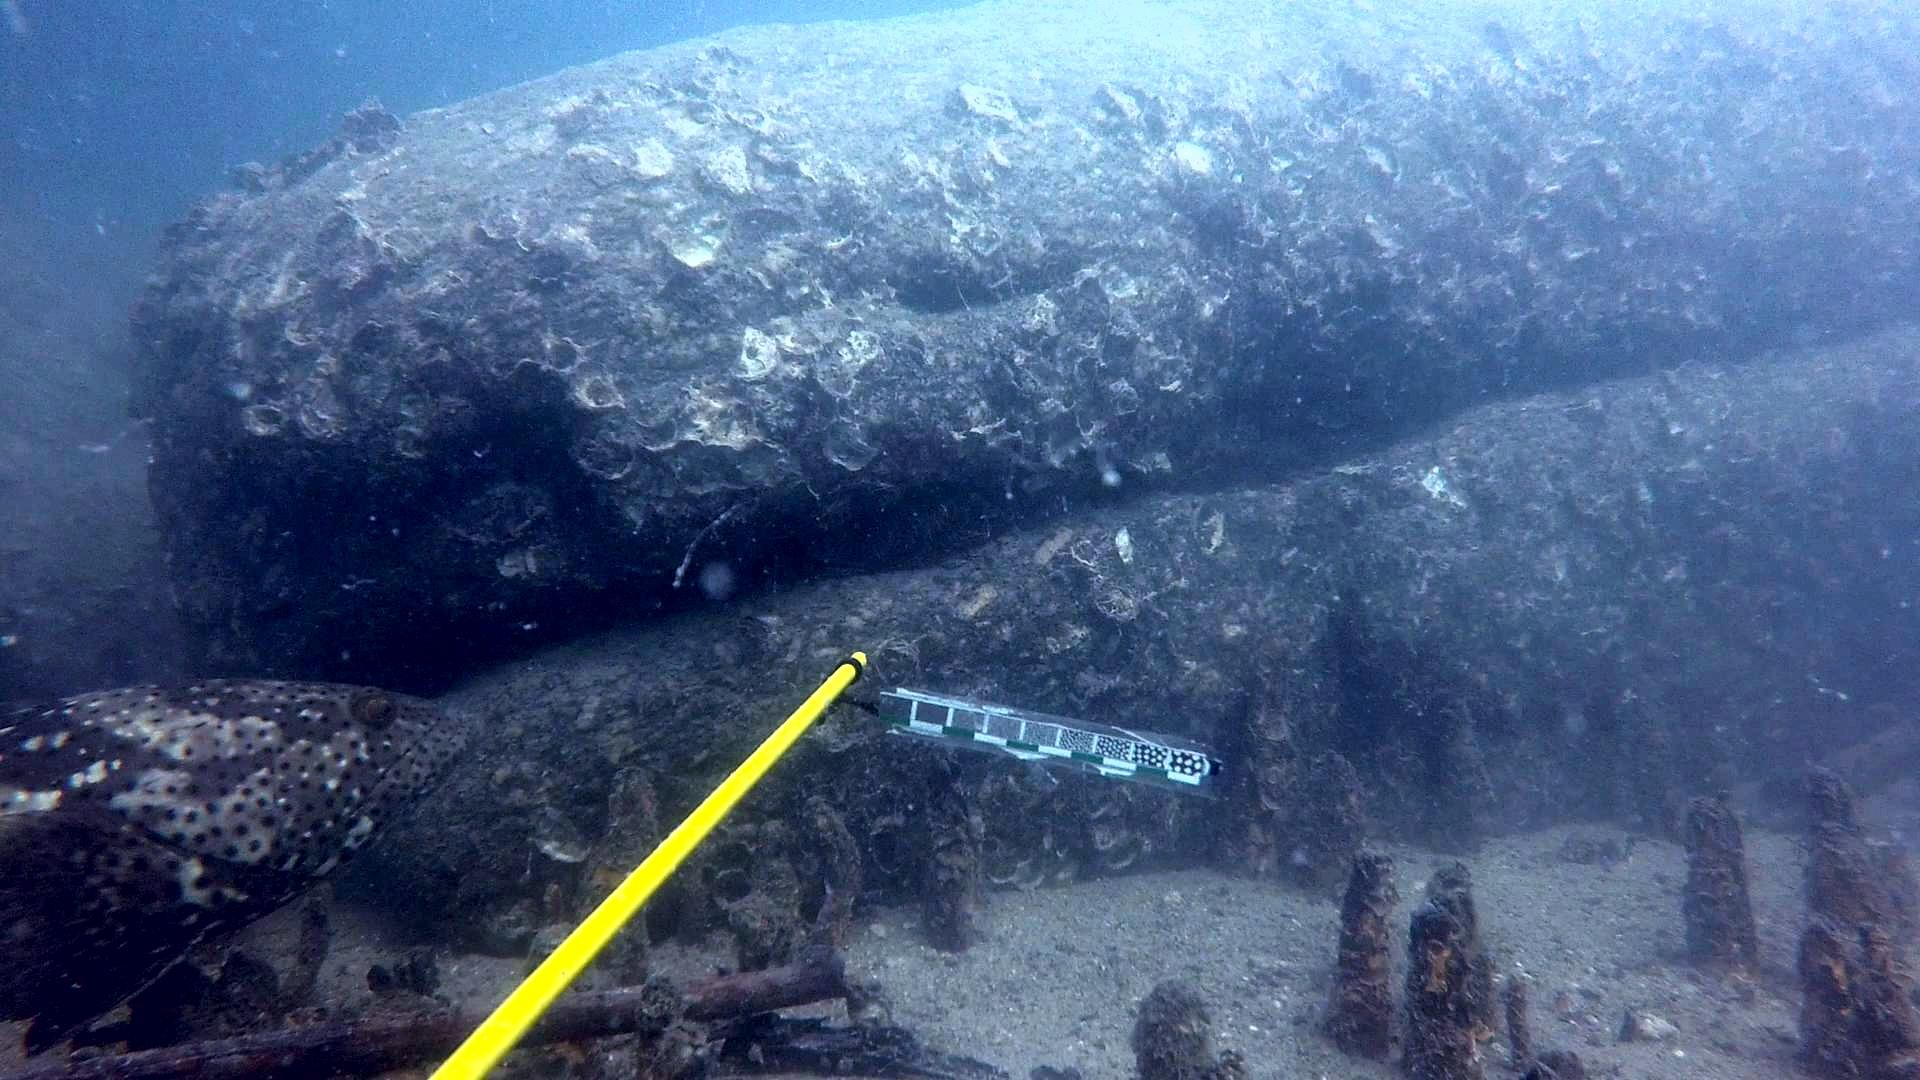epinephelus: (0, 673, 489, 1080)
